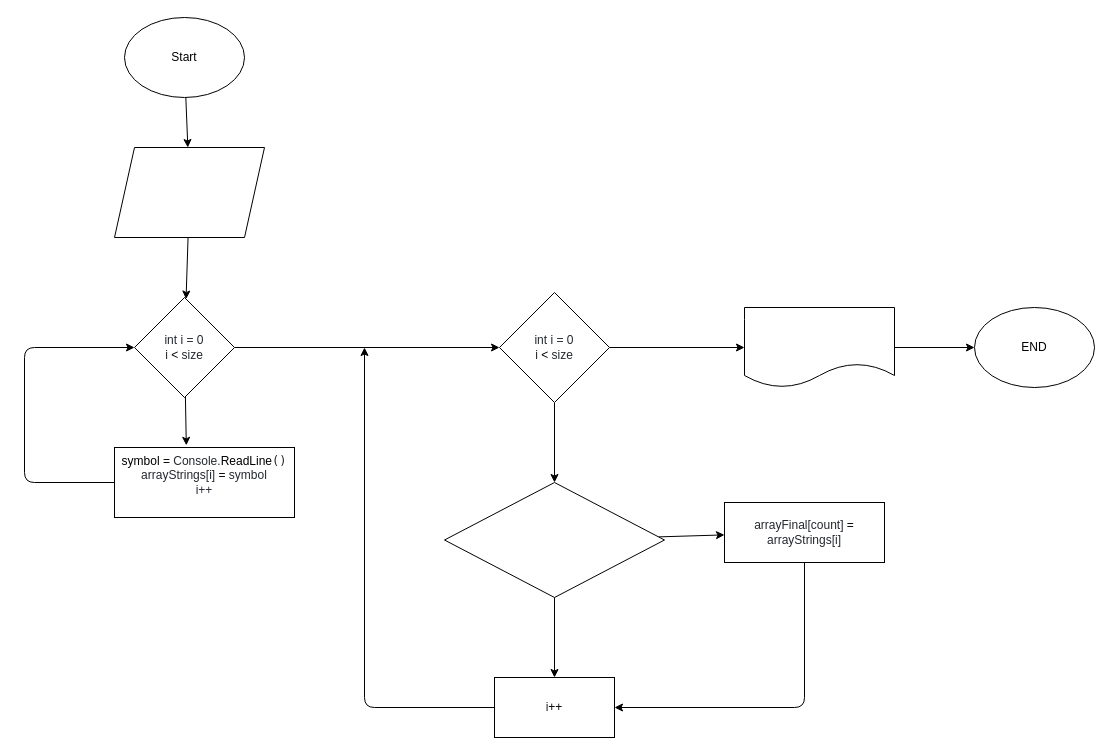
Some shapes in this 1112 by 755 pixel diagram are drawn without their labels. Here are the shapes that lost their labels. From the top down, the centre of each, then its label:
At (189,192): "size arrayStrings[size] arrayFinal[size] length = 3 count = 0 symbol".
At (819,347): "PrintArray ( arrayFinal )".
At (554,540): "arrayStrings [ i ]. Length <= length".
